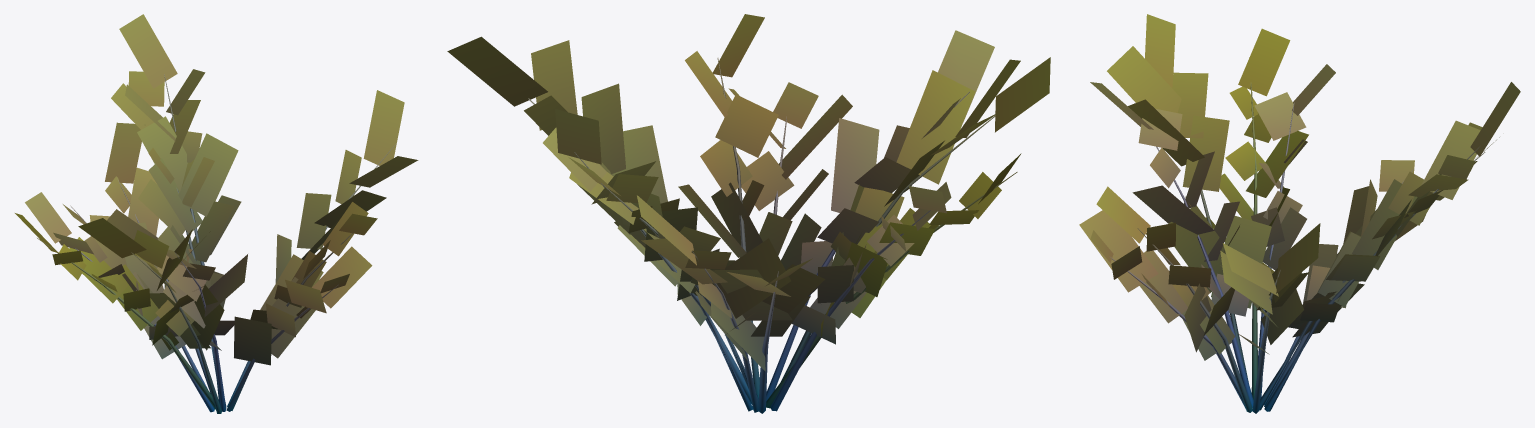
The model's file is alder_a.glb.
The picture shows the model from 3 angles, left to right: view 1: azimuth 30°, elevation 25°; view 2: azimuth 150°, elevation 25°; view 3: azimuth 270°, elevation 25°; orthographic projection. The views are drawn at different scales.
Visible parts, largest first — view 1: LOD0; view 2: LOD0; view 3: LOD0.
Part boxes in pixels (<box>): LOD0: <box>15,14,418,413</box>; LOD0: <box>447,14,1050,413</box>; LOD0: <box>1079,14,1520,413</box>.
Size of what is drawn, in the model's own units: 4.31 by 3.04 by 3.59.
